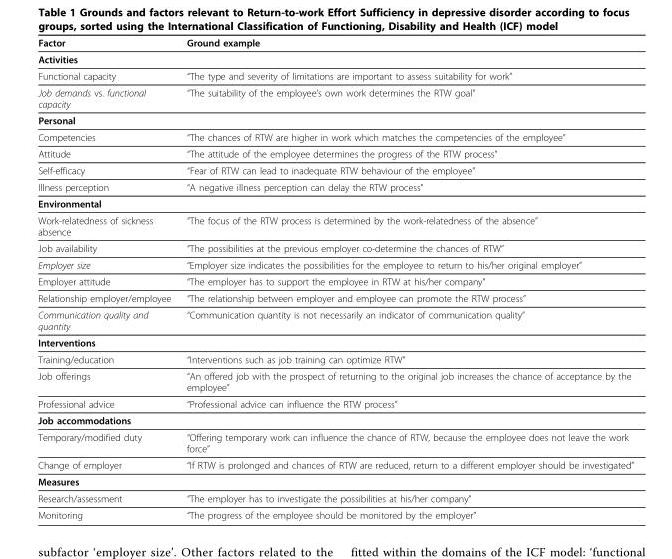table: (37, 36, 633, 520)
table column: (178, 36, 633, 520), (37, 36, 178, 520)
table column header: (37, 36, 633, 50)
table projected row header: (37, 50, 633, 67), (37, 111, 633, 128), (37, 411, 633, 428), (37, 472, 633, 489), (37, 195, 633, 211), (37, 334, 633, 350)
table row: (37, 211, 633, 239), (37, 306, 633, 334), (37, 367, 633, 395), (37, 428, 633, 456), (37, 84, 633, 111), (37, 50, 633, 67), (37, 67, 633, 84), (37, 111, 633, 128), (37, 128, 633, 145), (37, 161, 633, 178), (37, 178, 633, 195), (37, 239, 633, 256), (37, 272, 633, 289), (37, 289, 633, 306), (37, 350, 633, 367), (37, 411, 633, 428), (37, 472, 633, 489), (37, 489, 633, 506), (37, 145, 633, 161), (37, 195, 633, 211), (37, 256, 633, 272), (37, 334, 633, 350), (37, 395, 633, 411), (37, 456, 633, 472), (37, 36, 633, 50), (37, 506, 633, 520)
